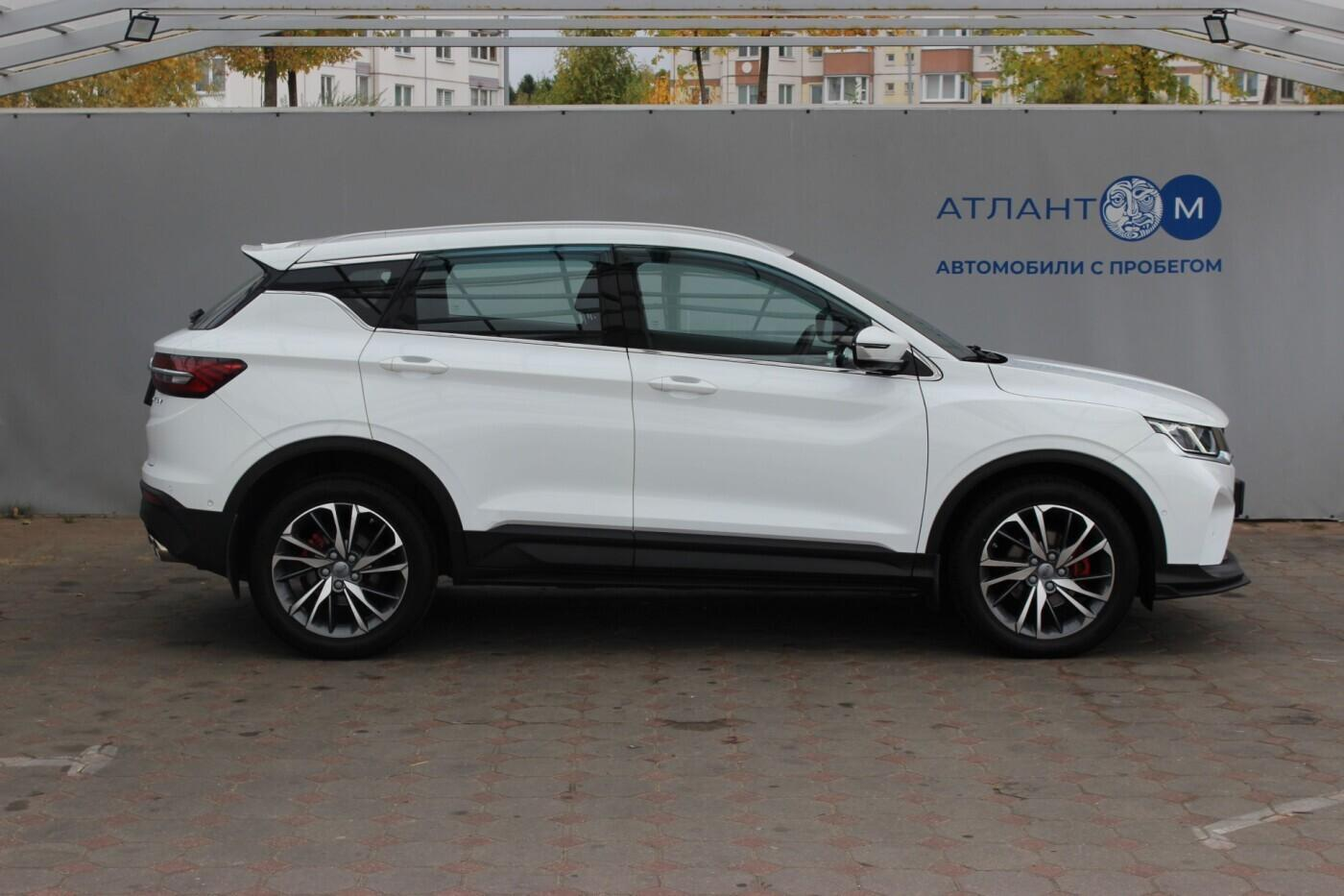Coolray_2019-2023: (128, 215, 1253, 666)
